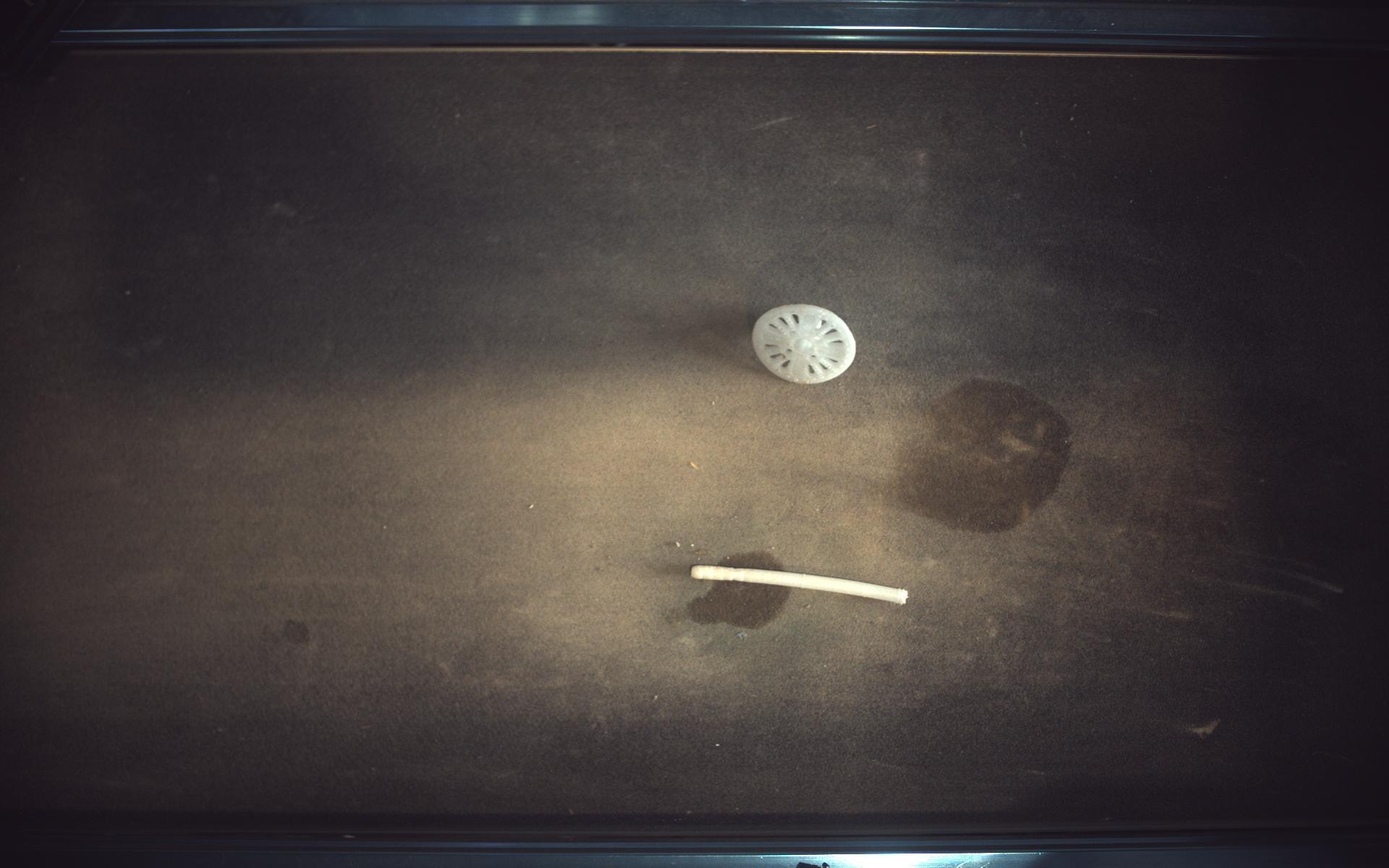plastic: (692, 566, 910, 605), (753, 305, 857, 384)
